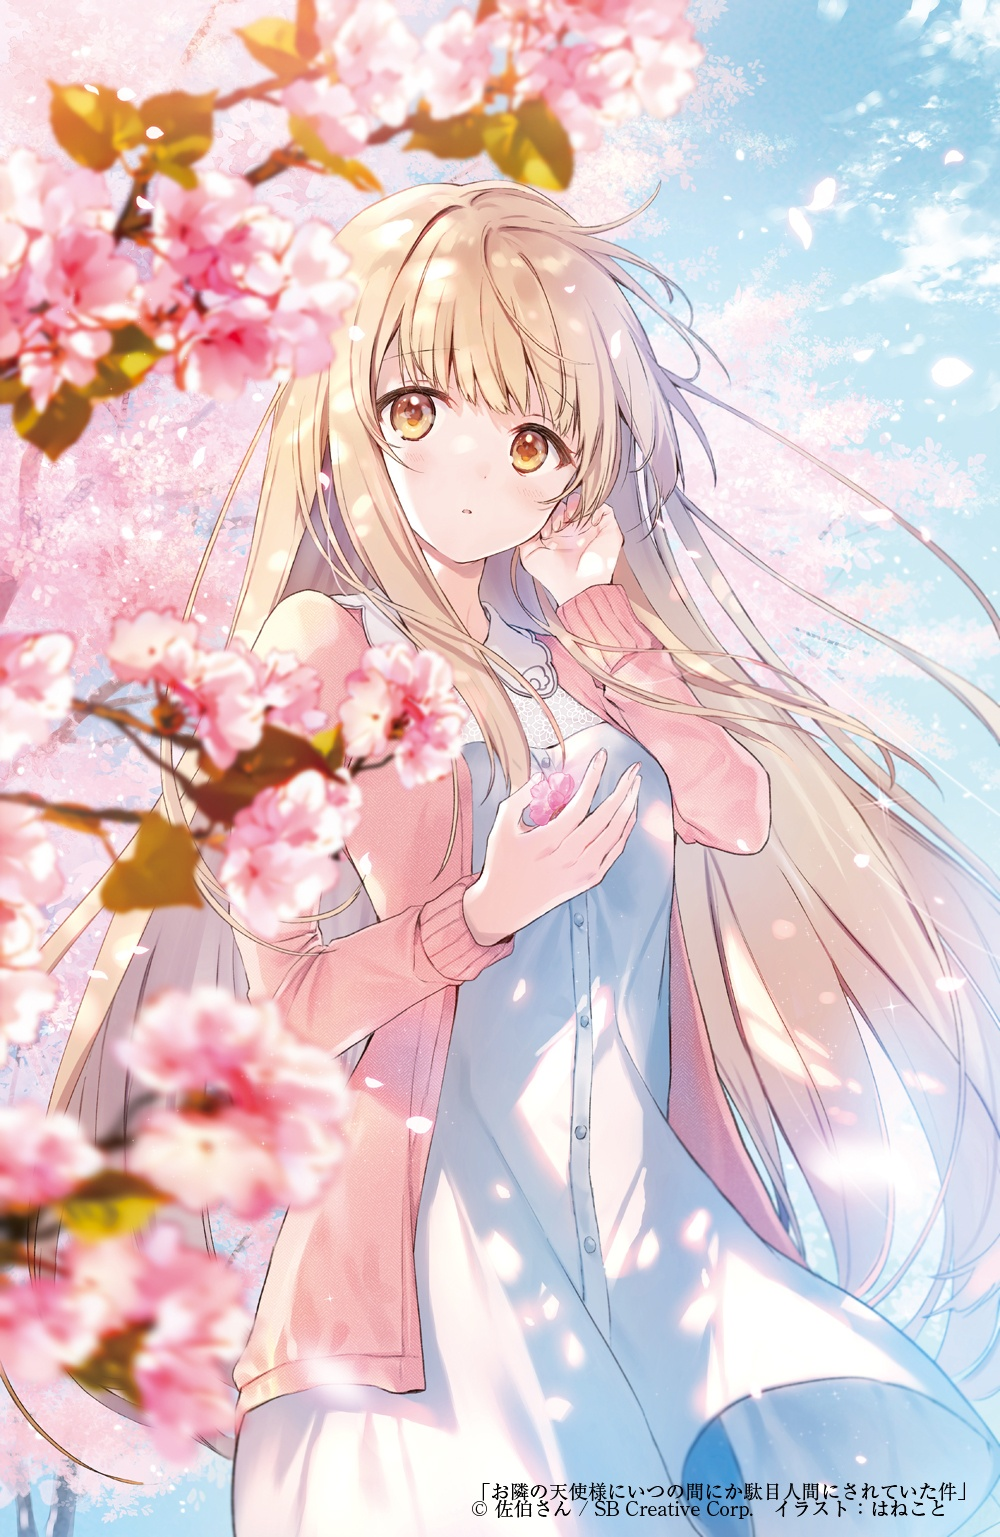纸片人正脸: (287, 169, 672, 571)
